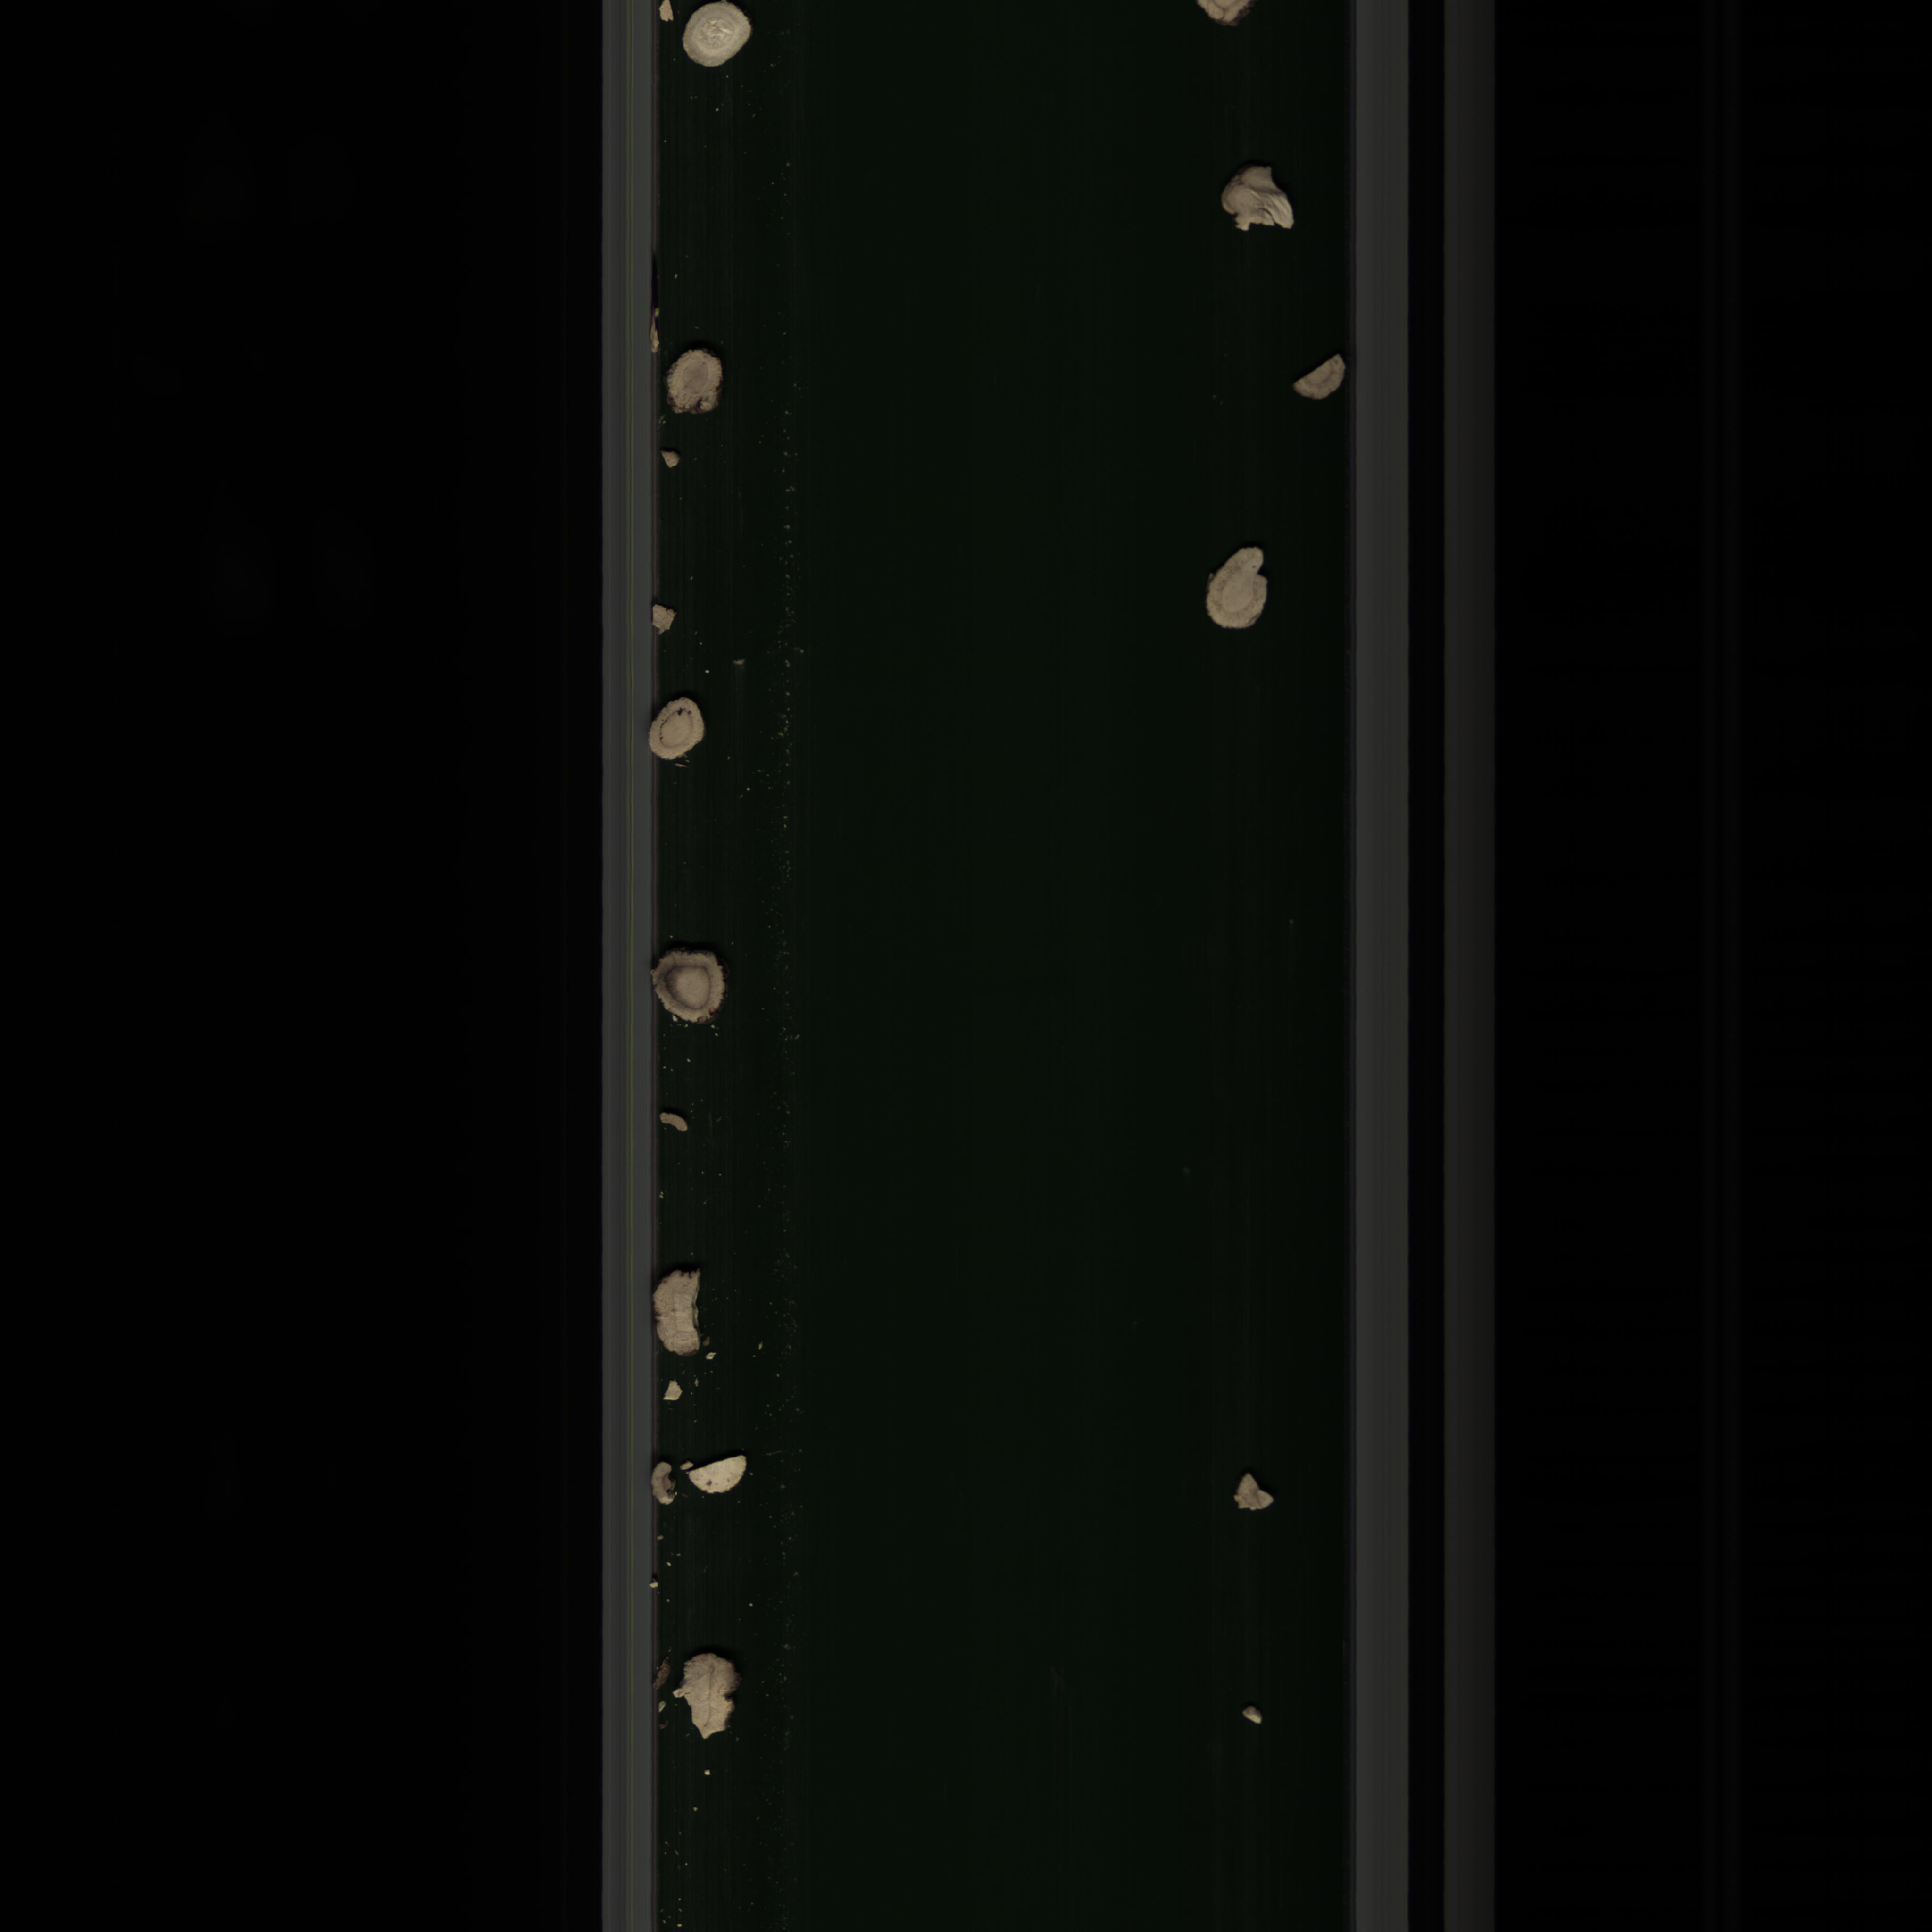bark: (1217, 150, 1307, 235)
debris: (671, 1645, 741, 1746), (655, 1258, 711, 1368), (681, 1445, 755, 1507), (1203, 1467, 1274, 1516), (649, 589, 683, 640), (662, 442, 686, 476), (658, 1380, 683, 1403)
distortion: (1201, 545, 1277, 632), (656, 343, 724, 425)
moldy: (648, 939, 738, 1035), (1288, 345, 1350, 405)
